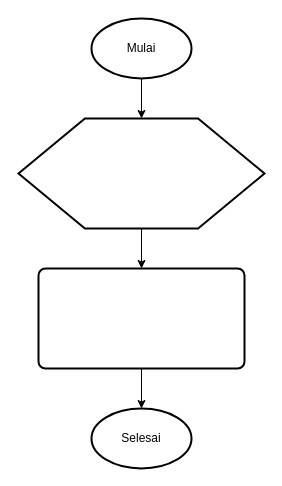
Some shapes in this 282 by 486 pixel diagram are drawn without their labels. The box of each missing label's shape, as (x1, y1, x2, y2) in pixels:
Lalu mengatur di dalam fungsi S->Count = 0: (37, 267, 245, 369)
Membuat fungsi InitializeStack(Stack *S): (17, 117, 265, 229)
